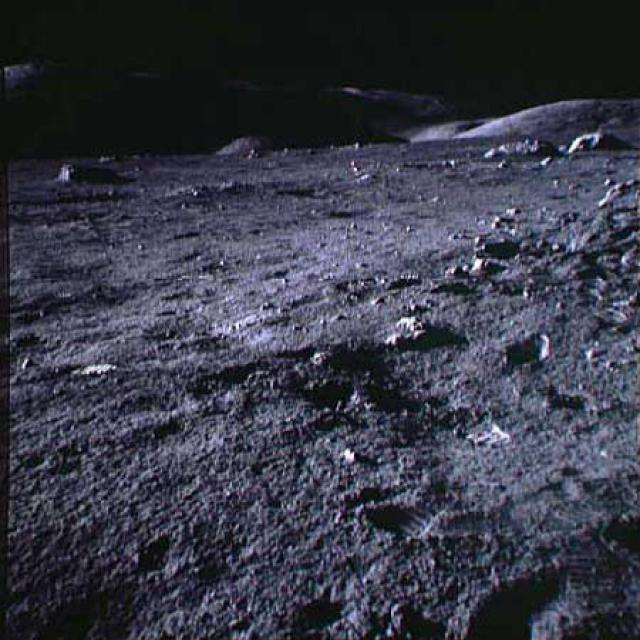crater: (169, 182, 320, 199), (310, 202, 374, 221)
rock: (46, 160, 132, 184), (566, 130, 630, 156), (480, 139, 560, 159), (593, 175, 639, 208), (387, 316, 436, 344), (443, 258, 508, 278)
